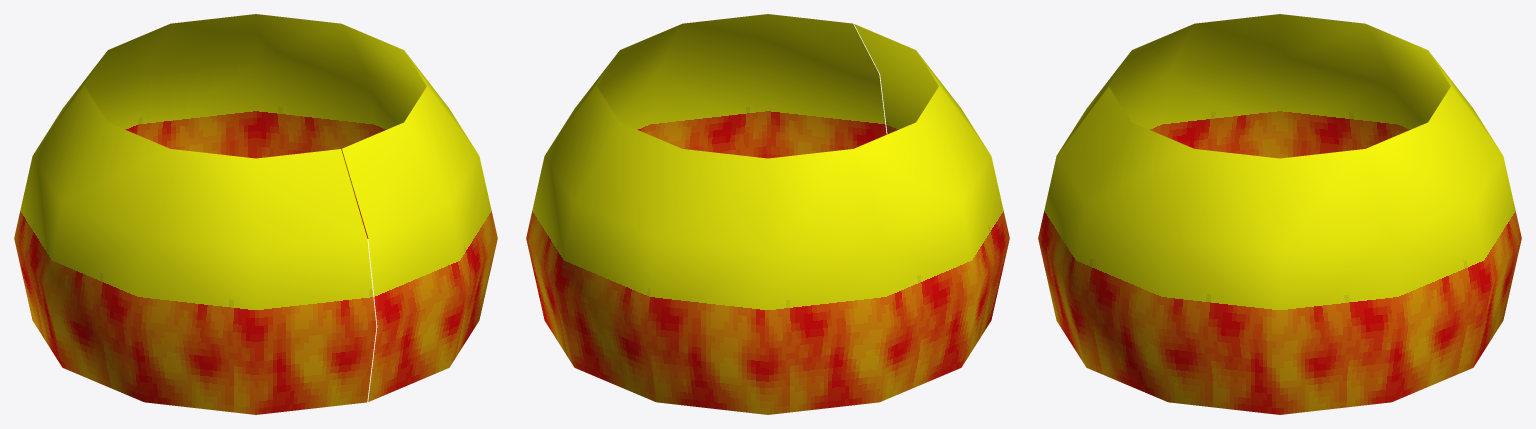
File: EMPBlast.glb
The picture shows the model from 3 angles, left to right: view 1: azimuth 30°, elevation 25°; view 2: azimuth 150°, elevation 25°; view 3: azimuth 270°, elevation 25°; orthographic projection.
Visible parts, largest first — view 1: EMPBlast; view 2: EMPBlast; view 3: EMPBlast.
Boxes of the visible parts, x1,y1,x2,y2 form: EMPBlast: [14, 14, 497, 414]; EMPBlast: [526, 14, 1009, 414]; EMPBlast: [1038, 14, 1521, 414].
Size of the model in its own units: 26 by 13.89 by 26.
1 material, 1 textured.
